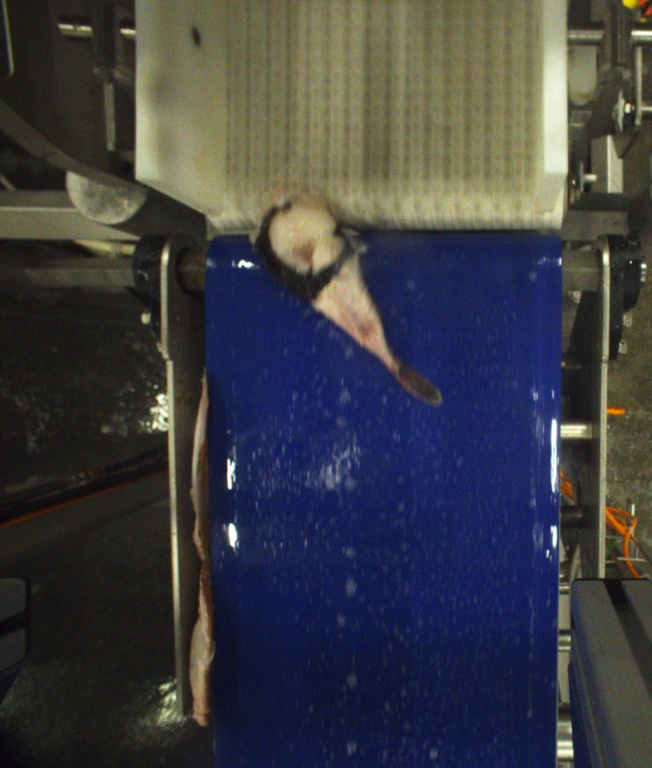ANF: (252, 195, 443, 411)
